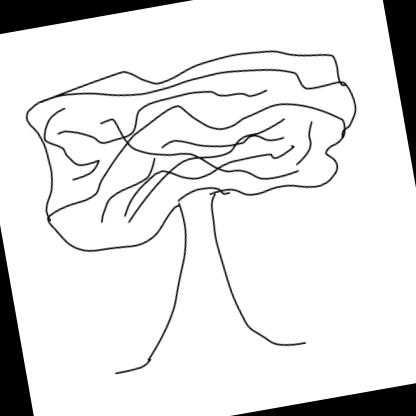crown_cloud: (18, 34, 374, 260)
trunk_straight: (152, 228, 241, 324)
